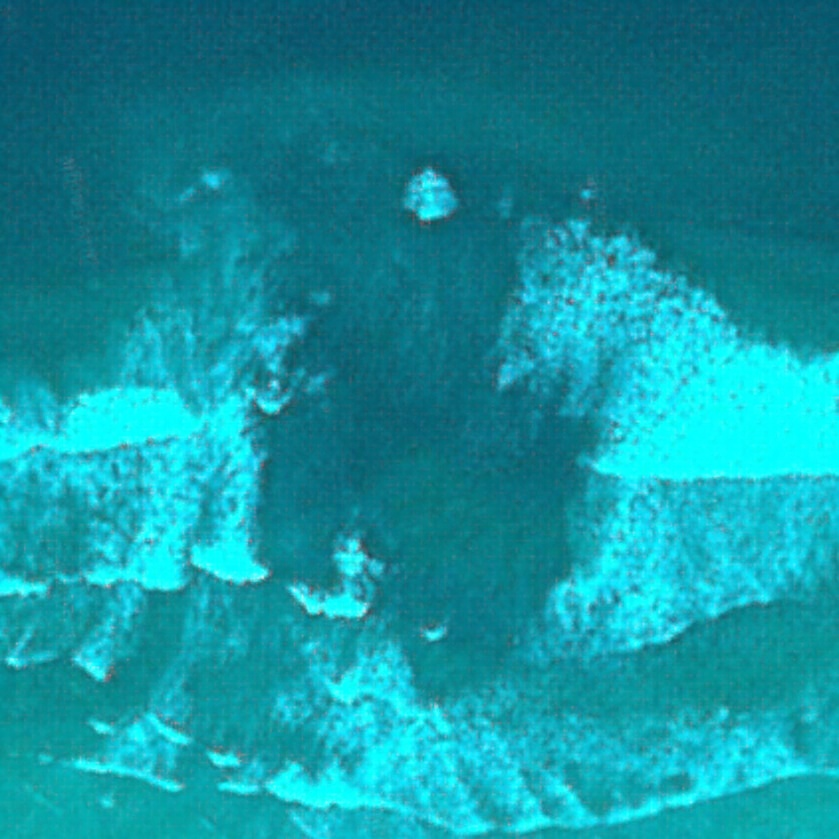rip_current: (169, 94, 645, 689)
